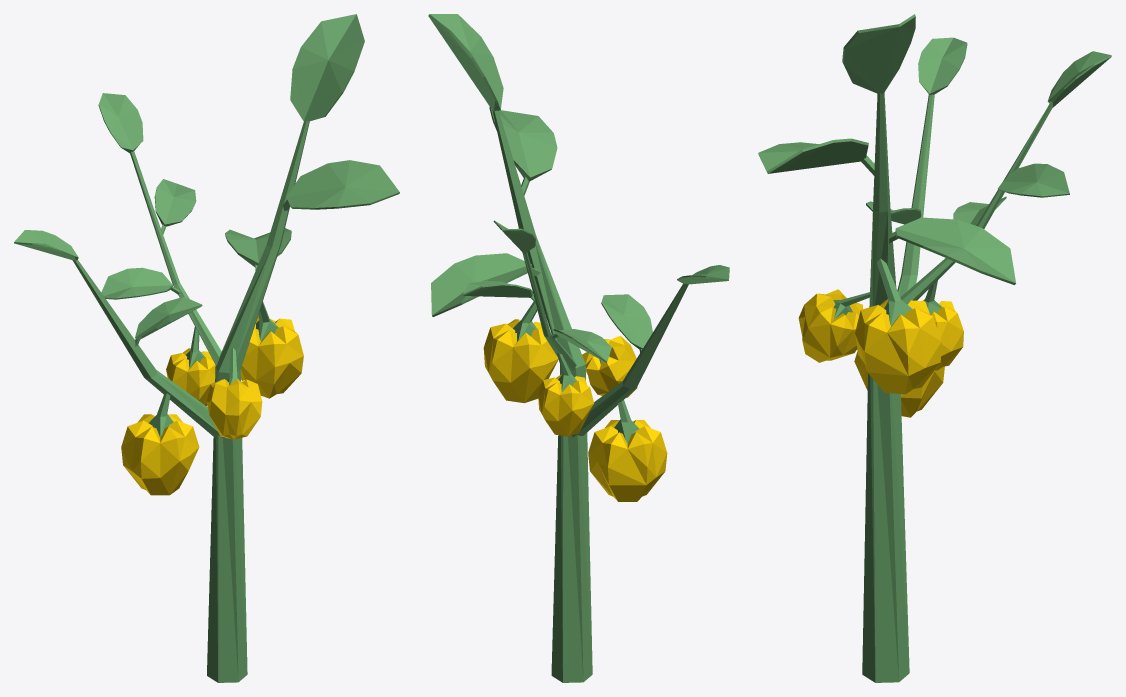
The model's file is pepper.glb.
The picture shows the model from 3 angles, left to right: view 1: azimuth 30°, elevation 25°; view 2: azimuth 150°, elevation 25°; view 3: azimuth 270°, elevation 25°; orthographic projection. The views are drawn at different scales.
Parts seen in each view (by area): view 1: pepper; view 2: pepper; view 3: pepper.
Part boxes in pixels (box(x1,y1,x2,y2)): pepper: box(14, 14, 399, 682); pepper: box(428, 14, 729, 682); pepper: box(758, 14, 1111, 682).
Bounding box in the file's own units: 0.4674 × 0.8708 × 0.3842.
1 material, 1 textured.
